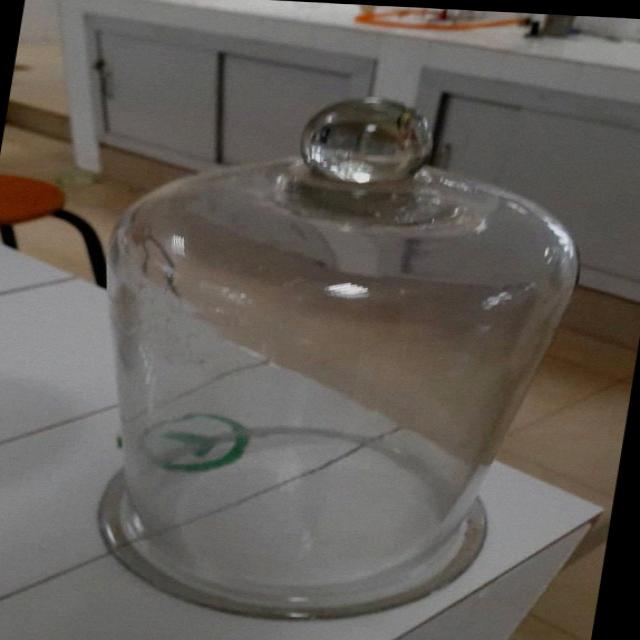Gas Bottle: (29, 82, 590, 636)
